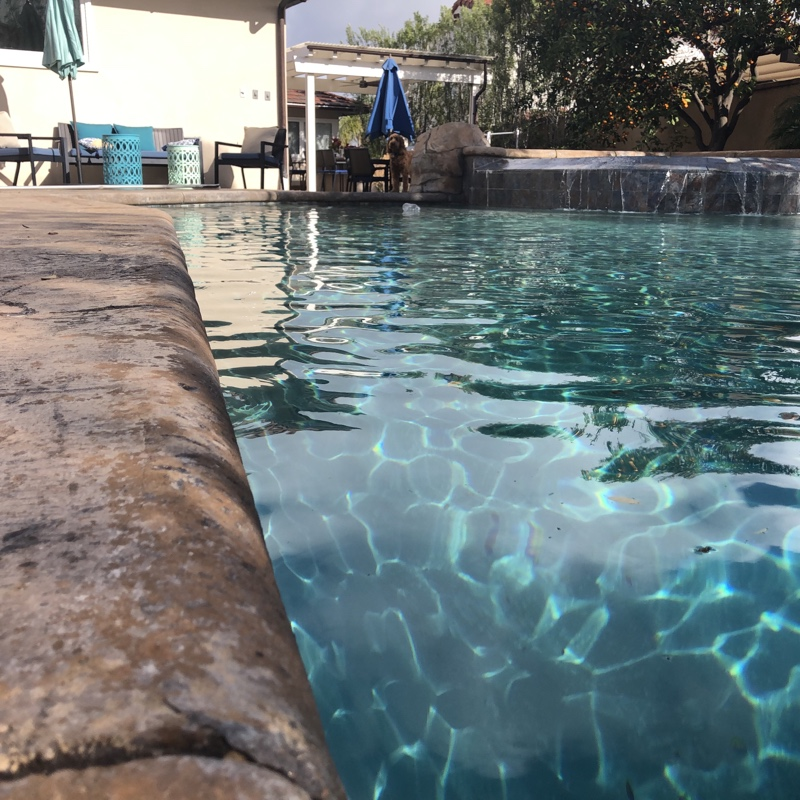Plastic Bottle: (404, 200, 421, 217)
